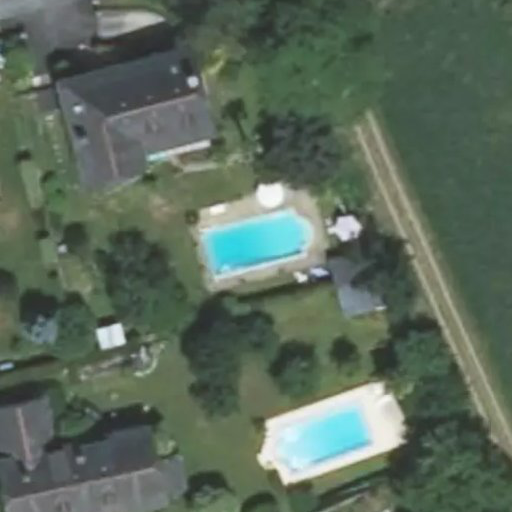pool: (203, 231, 313, 249)
